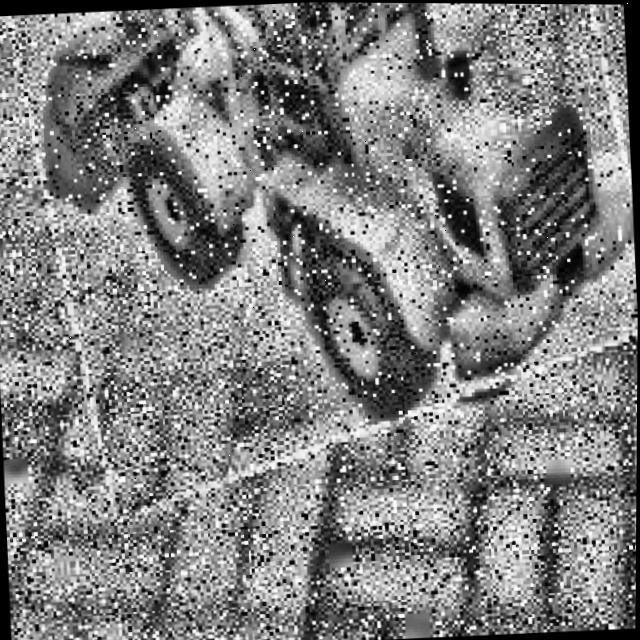buldozerpayloadergrader: (27, 0, 640, 440)
